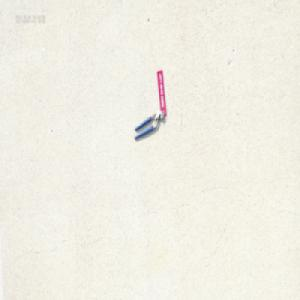Label: (156, 70, 166, 118)
Pliers: (133, 110, 164, 142)
